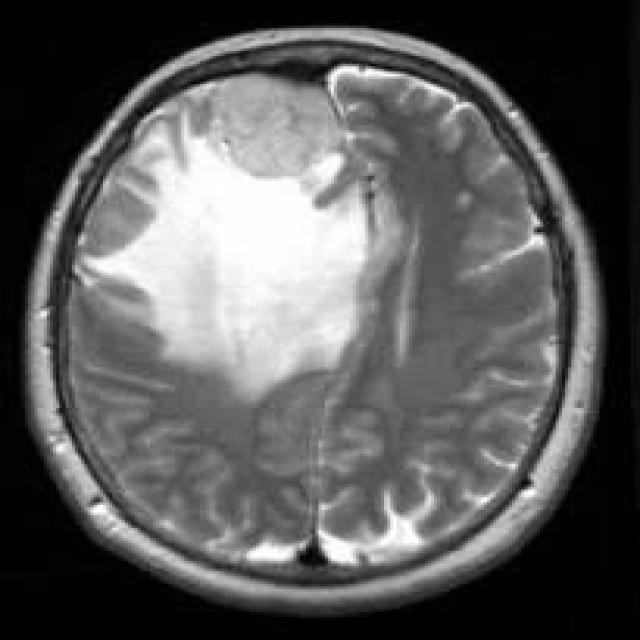Meningioma: (90, 139, 366, 400)
